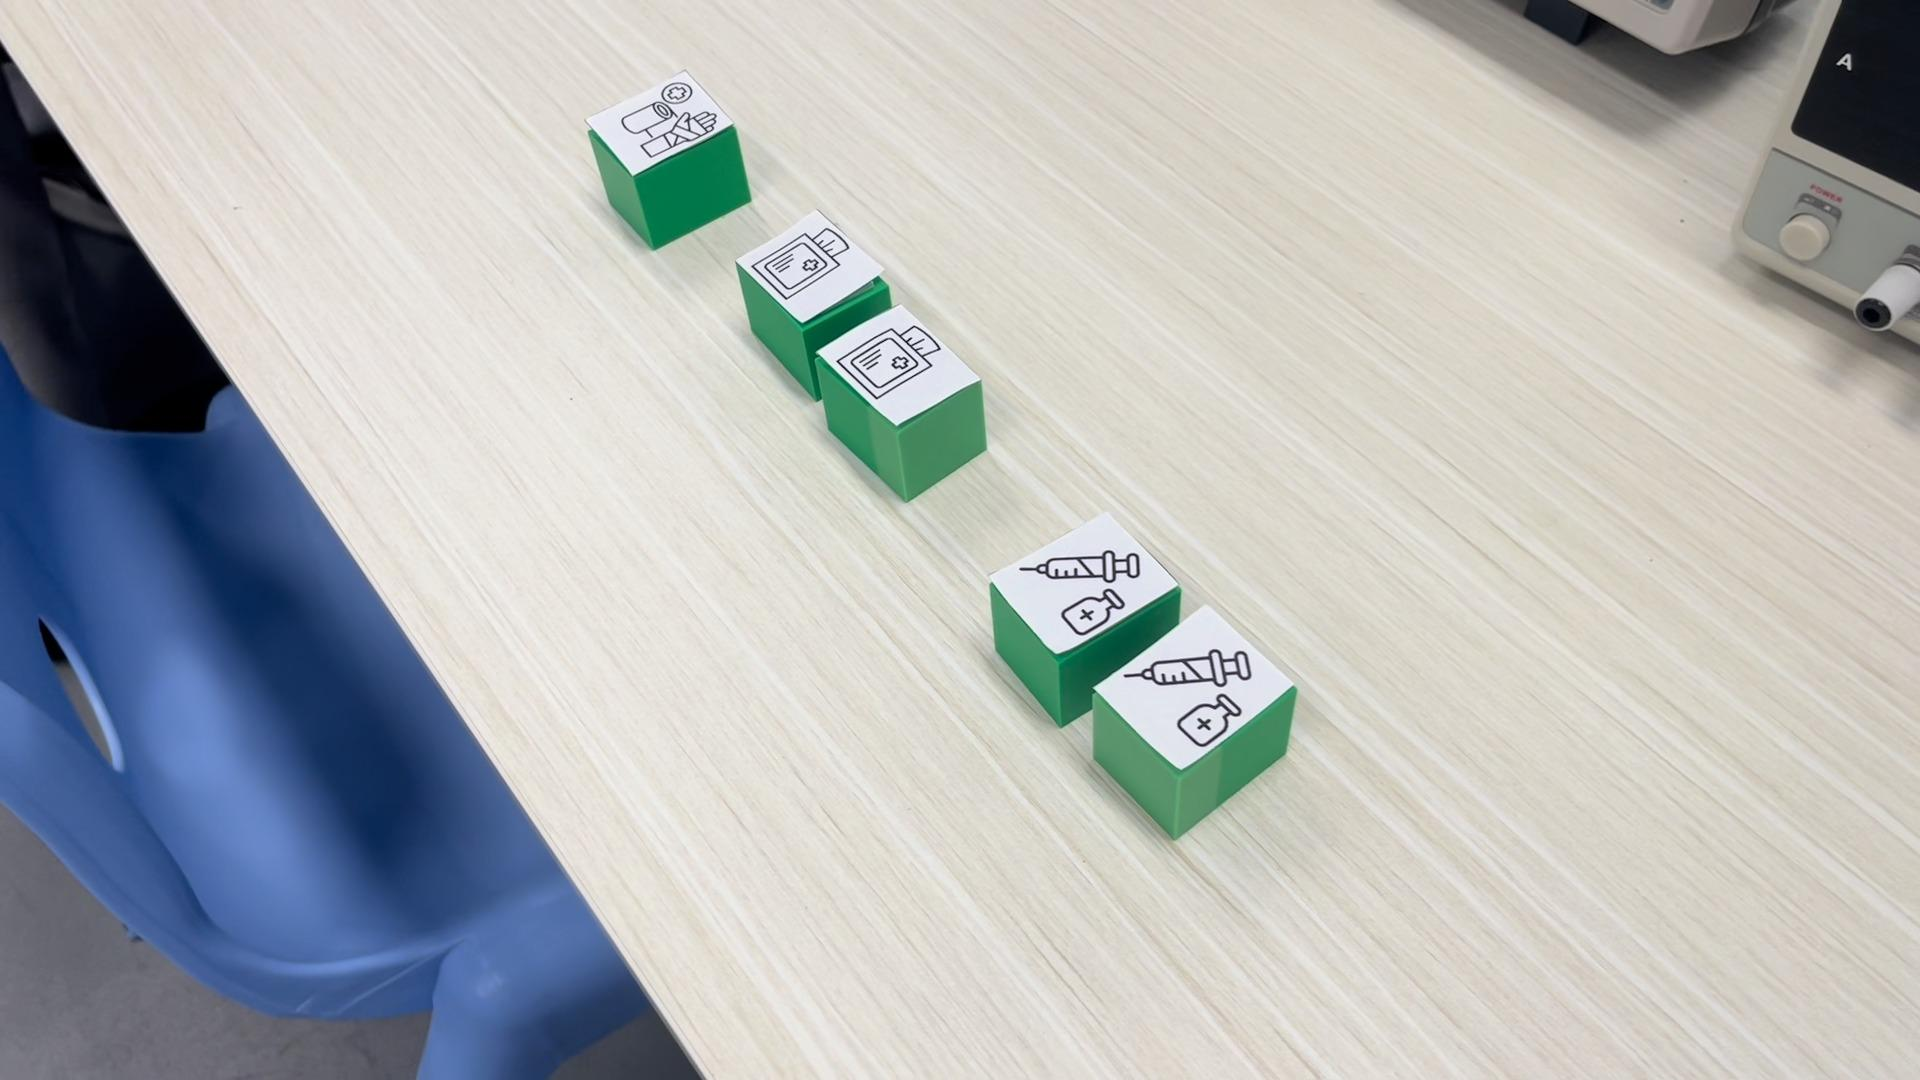Bandages: (582, 70, 752, 250)
Gauze: (814, 301, 987, 504), (737, 208, 884, 330)
antiseptic cream: (1092, 603, 1300, 839), (992, 507, 1179, 664)
